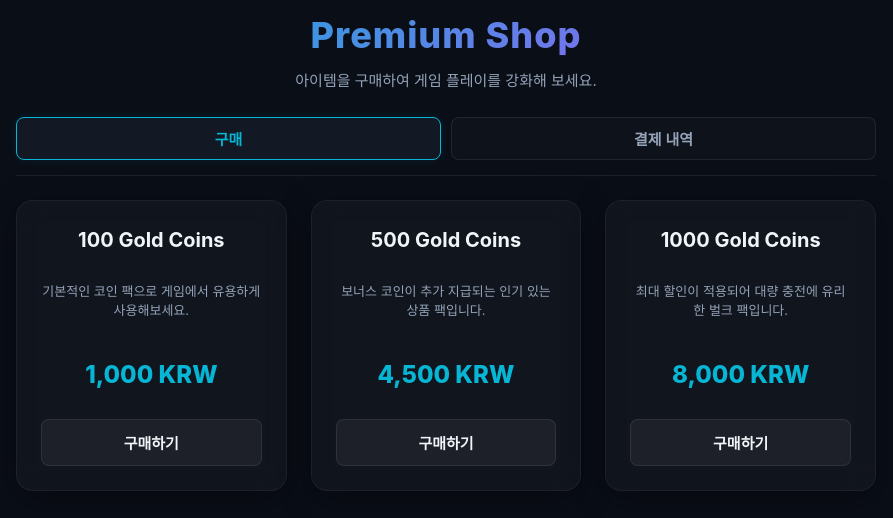
Payment Component › switches to the 결제 내역 tab and fetches the payment list, hiding the shop grid
The width and height of the screenshot is (893, 518).
Click the button "결제 내역" at (664, 138), box left=451, top=116, right=876, bottom=160
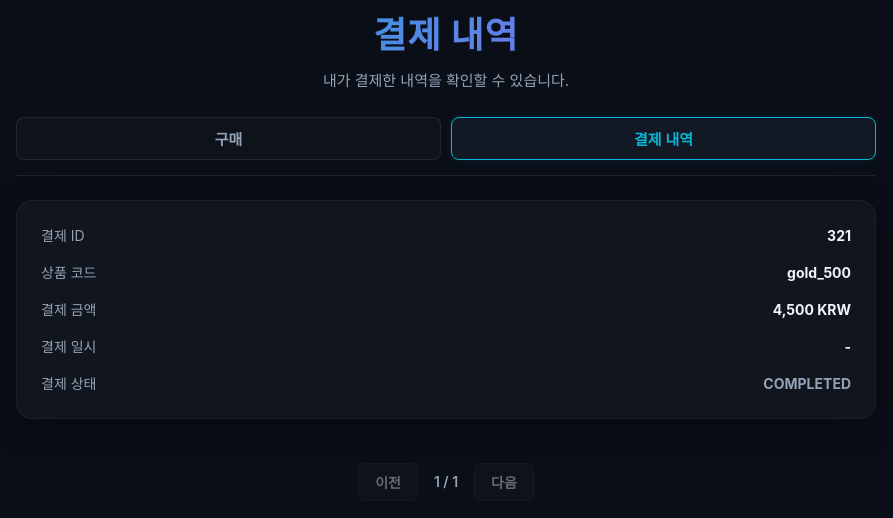
Check: the heading "100 Gold Coins" is gone
Check: the text "321" is shown, box left=827, top=224, right=851, bottom=246
